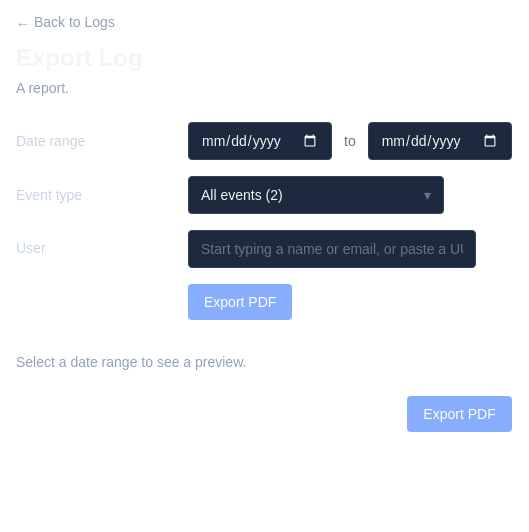
Test case: LogExportPage › previews with the chosen range once both dates are set, and lists the rows
Type "2026-10-01" into the 1st date field at (260,141), box [188, 122, 332, 160]
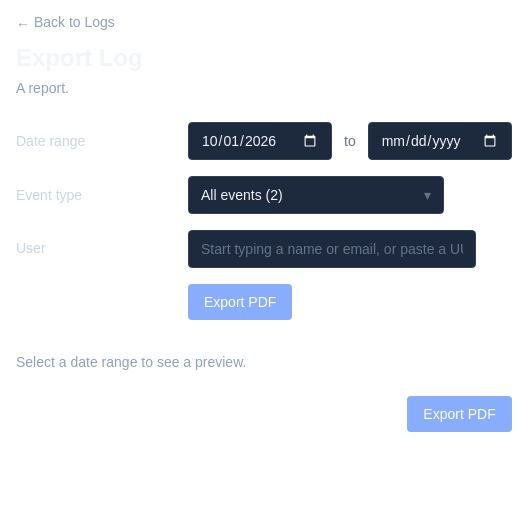
Type "2026-10-07" into the 2nd date field at (440,141), box [368, 122, 512, 160]
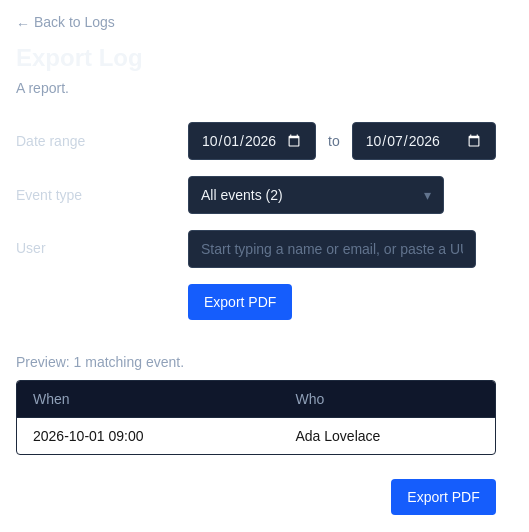
Expected: the text "Ada Lovelace" is shown, [280, 418, 495, 454]
Expected: the text "Preview: 1 matching event." is shown, [16, 354, 184, 370]
Expected: the column heading "Who" is shown, [280, 381, 495, 418]
